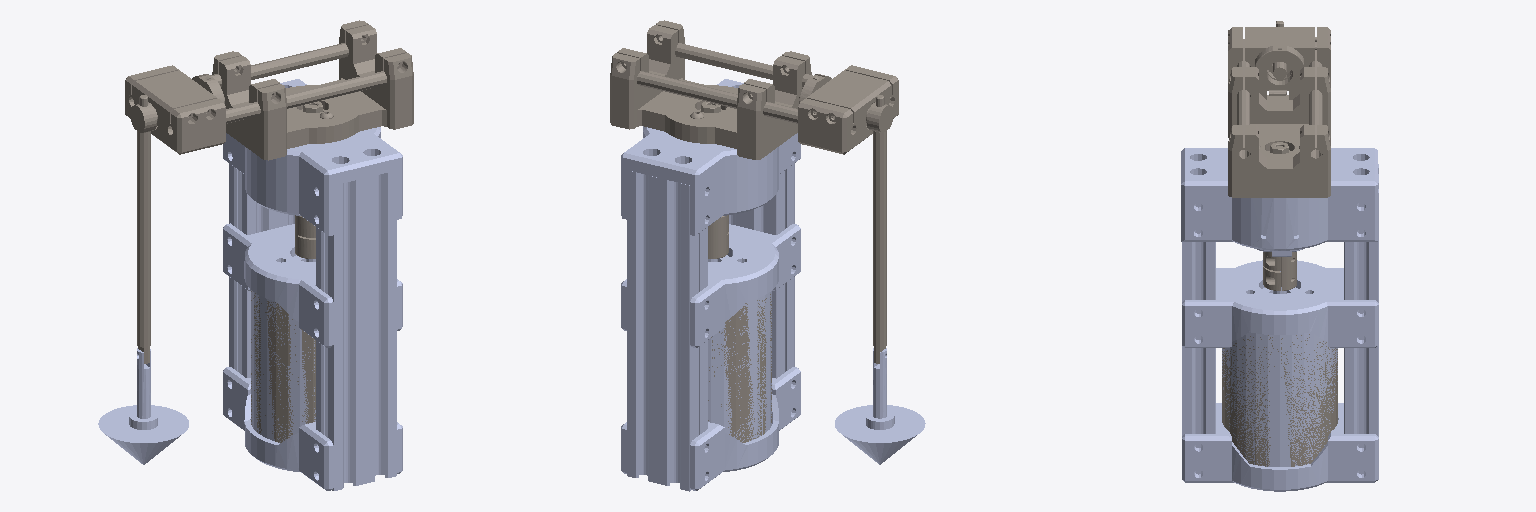
The robot description file, URDF, robot "inverted_pendulum_urdf":
<?xml version="1.0" encoding="utf-8"?>
<!-- This URDF was automatically created by SolidWorks to URDF Exporter! Originally created by [author] ([email redacted]) 
     Commit Version: 1.6.0-4-g7f85cfe  Build Version: 1.6.7995.38578
     For more information, please see http://wiki.ros.org/sw_urdf_exporter -->
<robot
  name="inverted_pendulum_urdf">
  <link
    name="base_link">
    <inertial>
      <origin
        xyz="4.3501E-06 -4.2697E-05 0.092689"
        rpy="0 0 0" />
      <mass
        value="0.95131" />
      <inertia
        ixx="0.0014941"
        ixy="4.127E-09"
        ixz="-7.6528E-08"
        iyy="0.0014065"
        iyz="8.8077E-10"
        izz="0.00063065" />
    </inertial>
    <visual>
      <origin
        xyz="0 0 0"
        rpy="0 0 0" />
      <geometry>
        <mesh
          filename="package://inverted_pendulum_urdf/meshes/base_link.STL" />
      </geometry>
      <material
        name="">
        <color
          rgba="0.79216 0.81961 0.93333 1" />
      </material>
    </visual>
    <collision>
      <origin
        xyz="0 0 0"
        rpy="0 0 0" />
      <geometry>
        <mesh
          filename="package://inverted_pendulum_urdf/meshes/base_link.STL" />
      </geometry>
    </collision>
  </link>
  <link
    name="revolute_Link">
    <inertial>
      <origin
        xyz="-0.006421 -6.0301E-05 -0.088876"
        rpy="0 0 0" />
      <mass
        value="0.59059" />
      <inertia
        ixx="0.00049829"
        ixy="-2.4785E-09"
        ixz="-6.1526E-09"
        iyy="0.00052717"
        iyz="4.8561E-09"
        izz="0.00032031" />
    </inertial>
    <visual>
      <origin
        xyz="0 0 0"
        rpy="0 0 0" />
      <geometry>
        <mesh
          filename="package://inverted_pendulum_urdf/meshes/revolute_Link.STL" />
      </geometry>
      <material
        name="">
        <color
          rgba="0.65098 0.61961 0.58824 1" />
      </material>
    </visual>
    <collision>
      <origin
        xyz="0 0 0"
        rpy="0 0 0" />
      <geometry>
        <mesh
          filename="package://inverted_pendulum_urdf/meshes/revolute_Link.STL" />
      </geometry>
    </collision>
  </link>
  <joint
    name="revolute_joint"
    type="revolute">
    <origin
      xyz="0 0 0.2"
      rpy="0 0 0" />
    <parent
      link="base_link" />
    <child
      link="revolute_Link" />
    <axis
      xyz="0 0 1" />
    <limit
      lower="0"
      upper="0"
      effort="0"
      velocity="0" />
  </joint>
  <link
    name="first_pendulum_link">
    <inertial>
      <origin
        xyz="4.3633E-10 -0.048573 -0.0044757"
        rpy="0 0 0" />
      <mass
        value="0.082896" />
      <inertia
        ixx="0.00010601"
        ixy="-2.4585E-13"
        ixz="-3.2692E-13"
        iyy="6.3774E-06"
        iyz="-2.3594E-08"
        izz="0.00010061" />
    </inertial>
    <visual>
      <origin
        xyz="0 0 0"
        rpy="0 0 0" />
      <geometry>
        <mesh
          filename="package://inverted_pendulum_urdf/meshes/first_pendulum_link.STL" />
      </geometry>
      <material
        name="">
        <color
          rgba="0.65098 0.61961 0.58824 1" />
      </material>
    </visual>
    <collision>
      <origin
        xyz="0 0 0"
        rpy="0 0 0" />
      <geometry>
        <mesh
          filename="package://inverted_pendulum_urdf/meshes/first_pendulum_link.STL" />
      </geometry>
    </collision>
  </link>
  <joint
    name="first_pendulum_joint"
    type="revolute">
    <origin
      xyz="-0.107 -0.0002 0.023198"
      rpy="1.5708 0 -1.5708" />
    <parent
      link="revolute_Link" />
    <child
      link="first_pendulum_link" />
    <axis
      xyz="0 0 1" />
    <limit
      lower="0"
      upper="0"
      effort="0"
      velocity="0" />
  </joint>
  <link
    name="second_pendulum_link">
    <inertial>
      <origin
        xyz="-8.3003E-11 -0.045364 1.7939E-11"
        rpy="0 0 0" />
      <mass
        value="0.019045" />
      <inertia
        ixx="3.3651E-06"
        ixy="5.2246E-14"
        ixz="-5.4428E-16"
        iyy="3.1141E-06"
        iyz="-3.0669E-14"
        izz="3.3642E-06" />
    </inertial>
    <visual>
      <origin
        xyz="0 0 0"
        rpy="0 0 0" />
      <geometry>
        <mesh
          filename="package://inverted_pendulum_urdf/meshes/second_pendulum_link.STL" />
      </geometry>
      <material
        name="">
        <color
          rgba="0.79216 0.81961 0.93333 1" />
      </material>
    </visual>
    <collision>
      <origin
        xyz="0 0 0"
        rpy="0 0 0" />
      <geometry>
        <mesh
          filename="package://inverted_pendulum_urdf/meshes/second_pendulum_link.STL" />
      </geometry>
    </collision>
  </link>
  <joint
    name="second_pendulum_joint"
    type="revolute">
    <origin
      xyz="0 -0.1432 0"
      rpy="0 0 0" />
    <parent
      link="first_pendulum_link" />
    <child
      link="second_pendulum_link" />
    <axis
      xyz="0 0 1" />
    <limit
      lower="0"
      upper="0"
      effort="0"
      velocity="0" />
  </joint>
</robot>

--- Render facts (derived) ---
3 views of the same robot in one strip: view 1: azimuth 30°, elevation 25°; view 2: azimuth 150°, elevation 25°; view 3: azimuth 270°, elevation 25° (orthographic).
Robot: inverted_pendulum_urdf — 4 links, 3 joints (3 revolute); root link base_link; default pose: all joints at 0.
Visible links, largest first — view 1: base_link, revolute_Link, second_pendulum_link, first_pendulum_link; view 2: base_link, revolute_Link, second_pendulum_link, first_pendulum_link; view 3: base_link, revolute_Link.
Link boxes in pixels (x1=…): base_link: x1=223, y1=79, x2=402, y2=490; revolute_Link: x1=125, y1=20, x2=413, y2=442; second_pendulum_link: x1=98, y1=348, x2=188, y2=464; first_pendulum_link: x1=130, y1=95, x2=157, y2=363; base_link: x1=621, y1=79, x2=800, y2=491; revolute_Link: x1=610, y1=20, x2=898, y2=442; second_pendulum_link: x1=835, y1=348, x2=925, y2=464; first_pendulum_link: x1=866, y1=95, x2=893, y2=363; base_link: x1=1181, y1=148, x2=1378, y2=491; revolute_Link: x1=1222, y1=27, x2=1337, y2=466.
Bounding box of the posed robot: 0.1795 × 0.1152 × 0.238 m (x, y, z).
4 mesh visuals loaded from 4 distinct referenced files (4 binary STL).